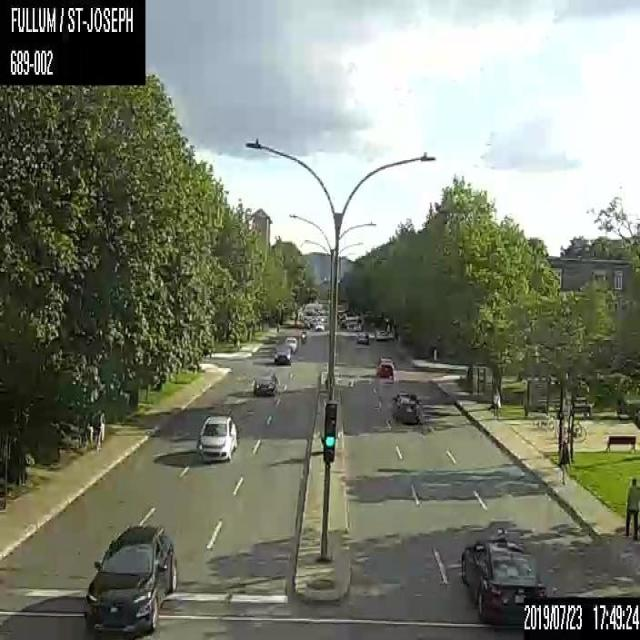pedestrian: (624, 476, 639, 541), (557, 440, 573, 485), (492, 385, 501, 416), (85, 421, 94, 449), (93, 423, 102, 451)
vehicle: (82, 522, 180, 638), (459, 531, 547, 625), (196, 412, 239, 464), (391, 391, 418, 424), (252, 369, 277, 396), (376, 356, 396, 380), (274, 344, 290, 365), (284, 335, 297, 353), (356, 331, 368, 344), (376, 328, 388, 340), (314, 320, 324, 331), (300, 328, 306, 343)
